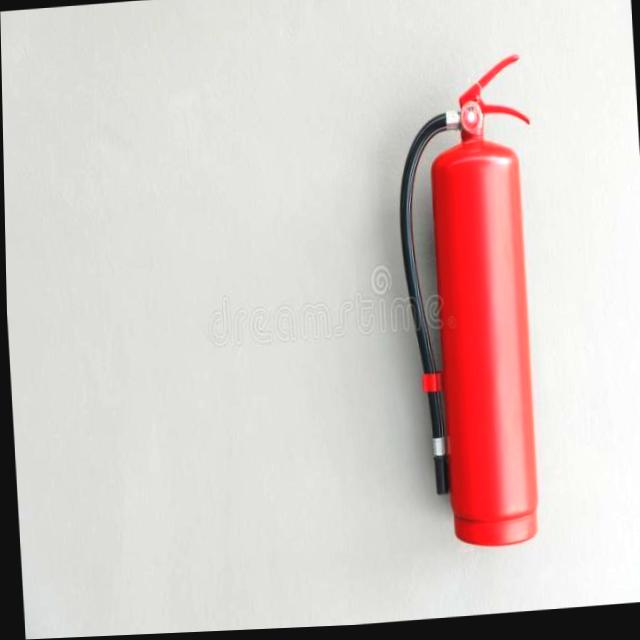FireExtinguisher: (387, 51, 555, 559)
